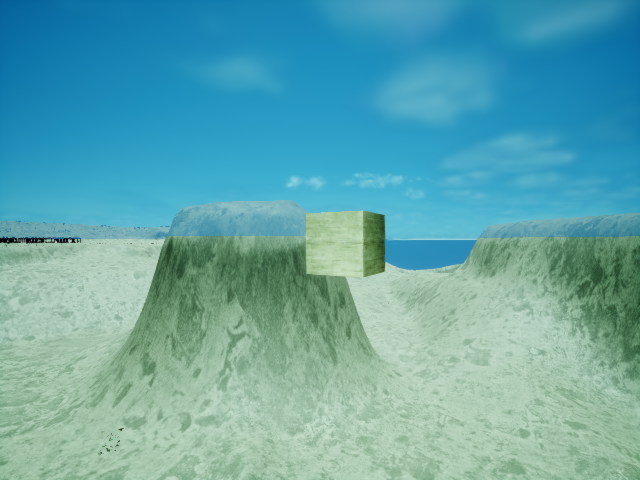Cube: (300, 187, 390, 287)
